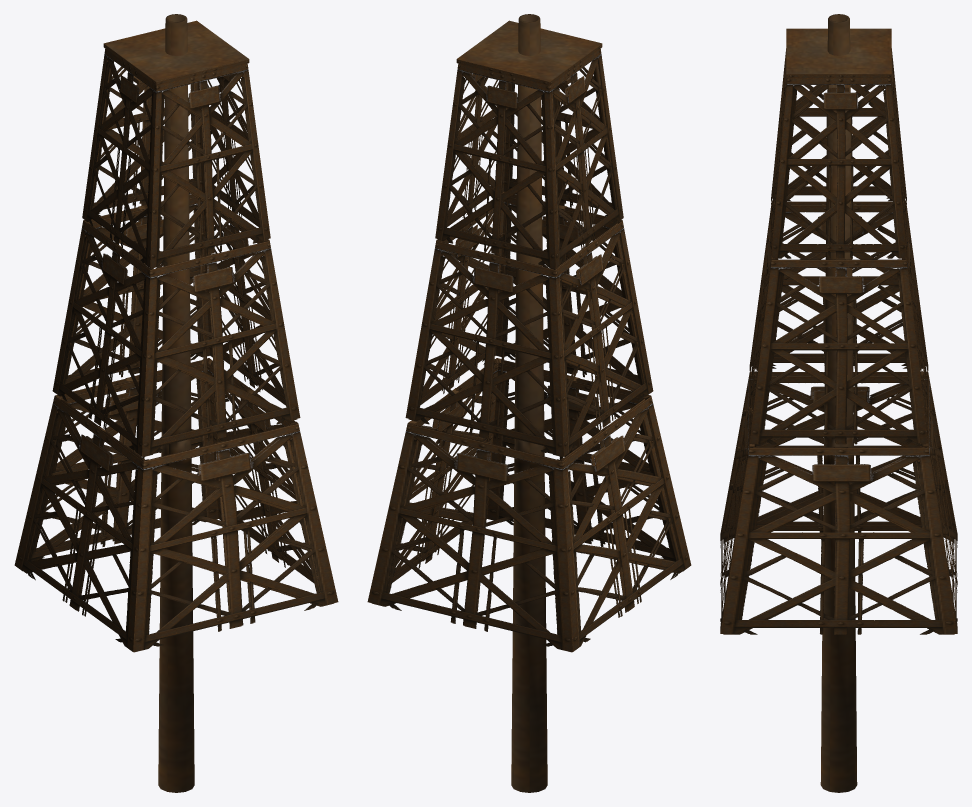
Rendered from tower_oil.dae.
3 views of the same model, side by side, from view 1: azimuth 30°, elevation 25°; view 2: azimuth 150°, elevation 25°; view 3: azimuth 270°, elevation 25° (orthographic).
Parts seen in each view (by area): view 1: tower_oil; view 2: tower_oil; view 3: tower_oil.
Part boxes in pixels (x1,y1,x2,y2): tower_oil: (14, 14, 338, 792); tower_oil: (367, 14, 691, 792); tower_oil: (720, 14, 957, 792).
Size of the model in its own units: 8.11 by 8.11 by 28.86.
